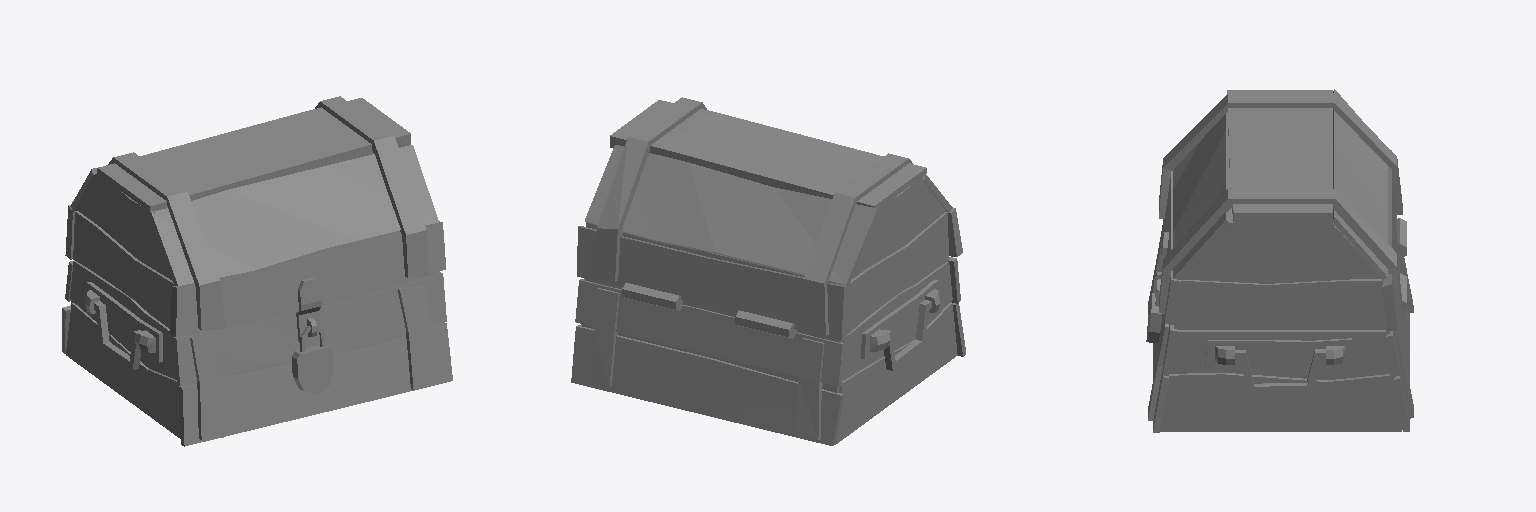
Rendered from chest.obj.
The picture shows the model from 3 angles: view 1: azimuth 30°, elevation 25°; view 2: azimuth 150°, elevation 25°; view 3: azimuth 270°, elevation 25°; orthographic projection.
Bounding box in the file's own units: 0.8949 × 0.6624 × 0.7154.